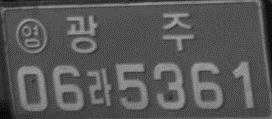0: (16, 64, 47, 112)
1: (229, 59, 260, 109)
3: (153, 62, 185, 111)
5: (114, 62, 149, 111)
6: (190, 62, 224, 111), (52, 64, 85, 111)
광주_D: (65, 12, 194, 54)
라: (86, 68, 112, 106)
영: (14, 17, 48, 55)
